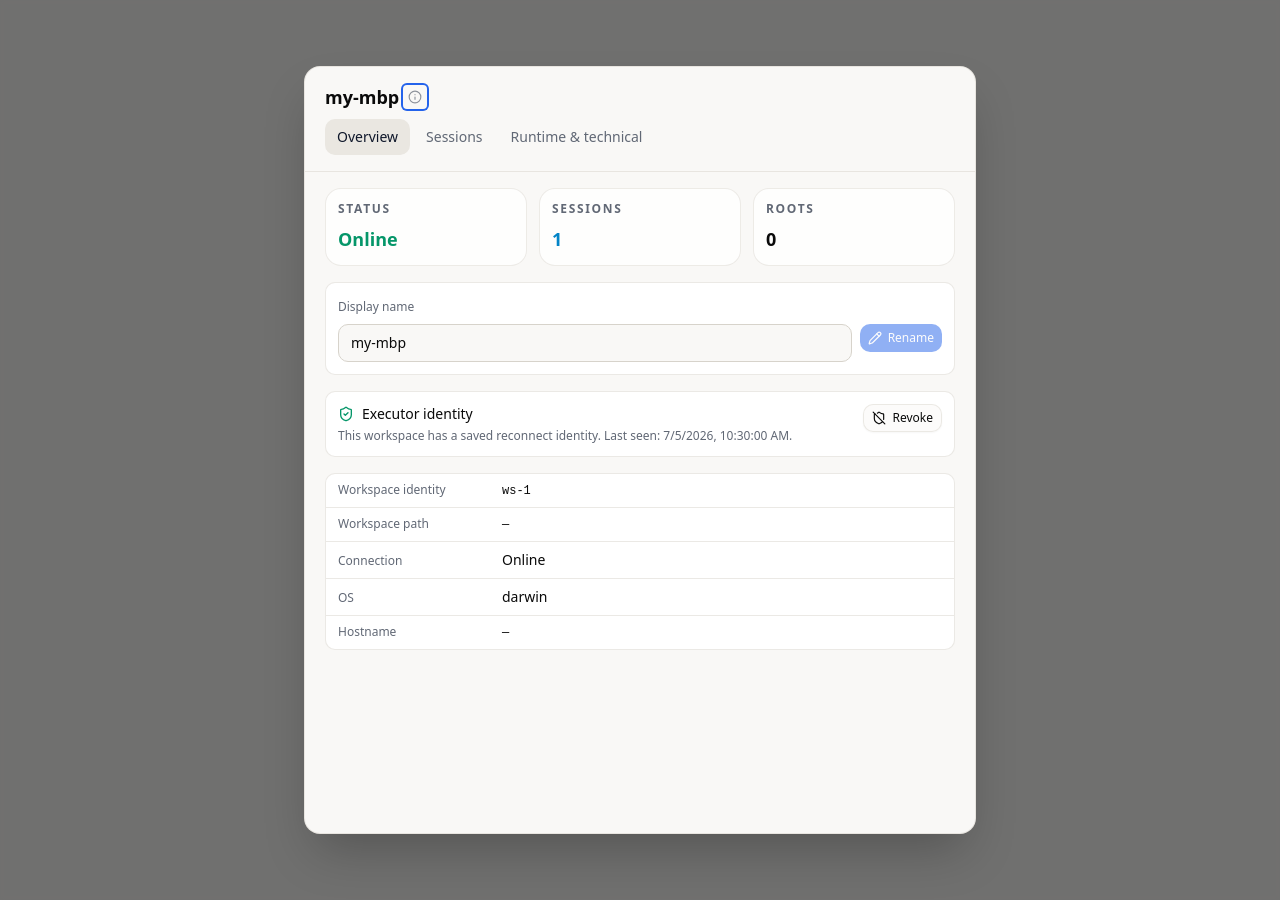
WorkspaceMetadataDialog › shows and revokes a saved executor identity
Check: the text "This workspace has a saved reconnect identity" is shown, box 338,427 -> 792,444
Click the button with test id "workspace-revoke-identity-button" at [903, 418], box 864,404 -> 942,432
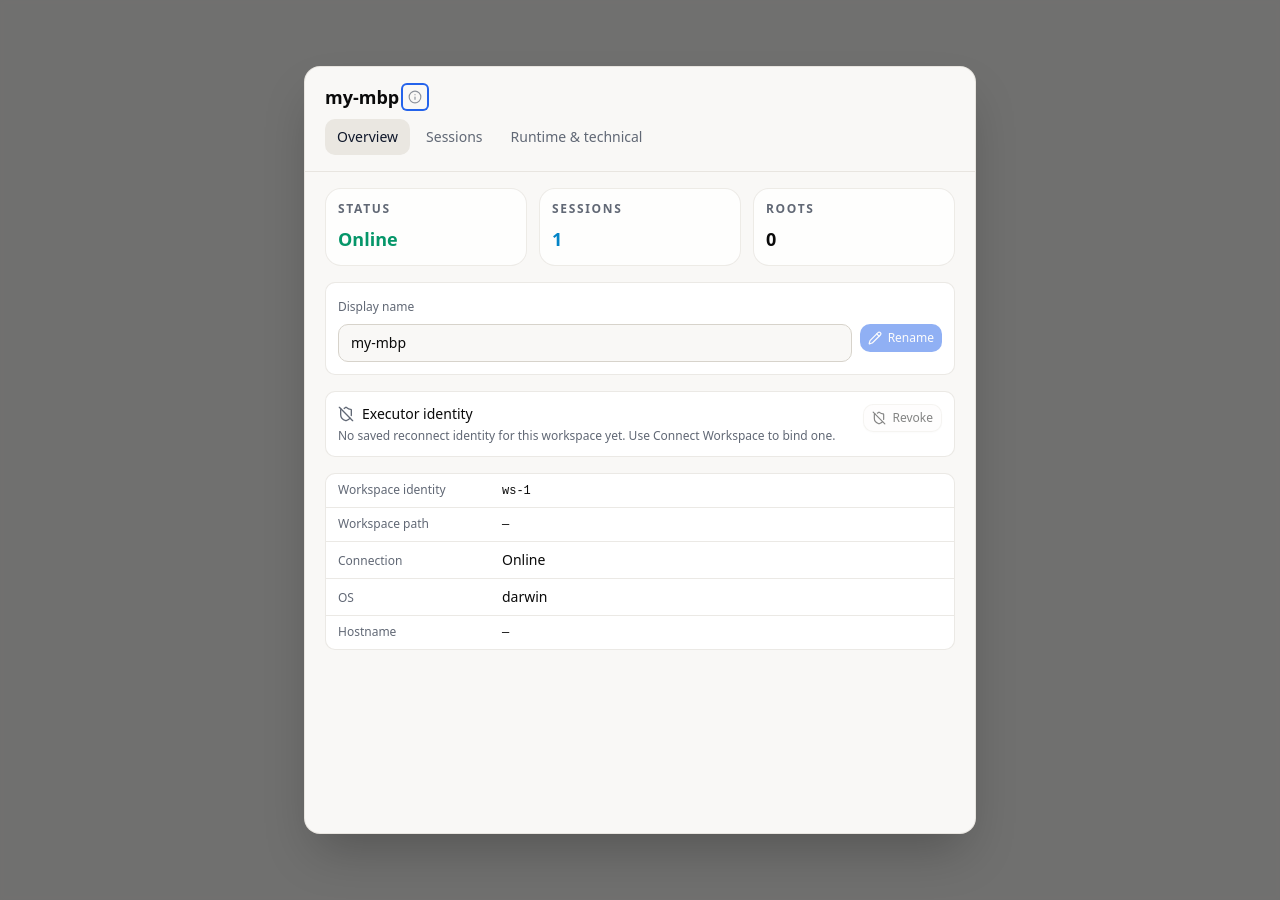
Check: the text "No saved reconnect identity" is shown, box 338,427 -> 836,444
